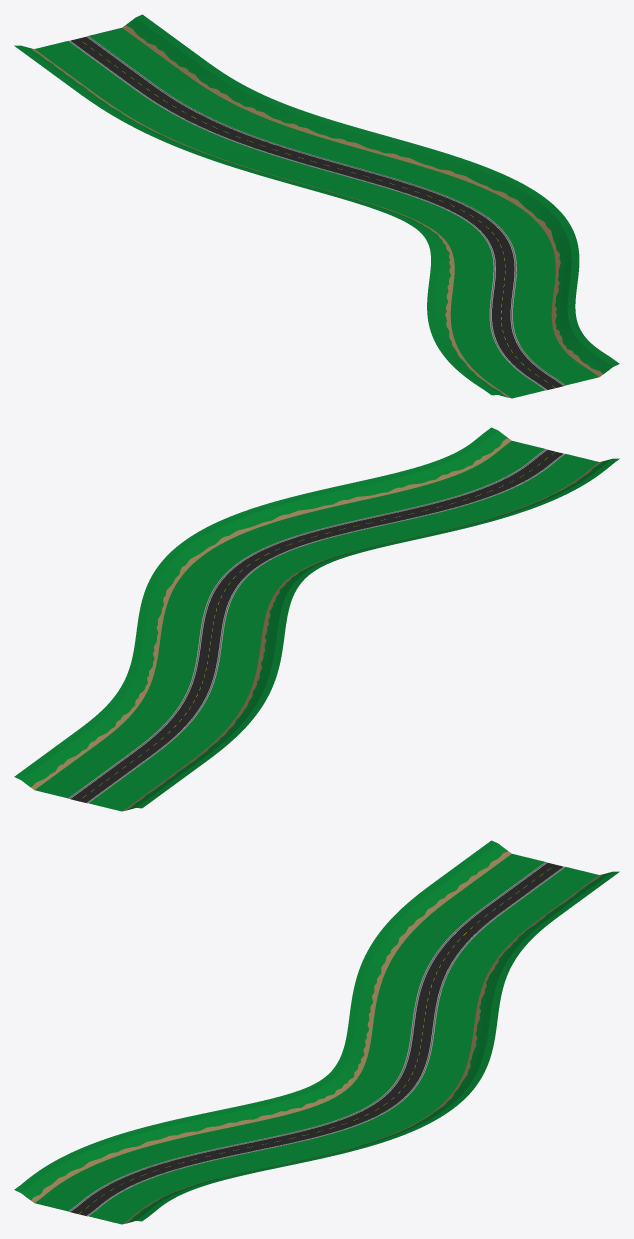
File: HighWay-10.fbx
3 views of the same model, one above another, from view 1: azimuth 30°, elevation 25°; view 2: azimuth 150°, elevation 25°; view 3: azimuth 330°, elevation 25° (orthographic).
Parts seen in each view (by area): view 1: HW-01; view 2: HW-01; view 3: HW-01.
Boxes of the visible parts, x1,y1,x2,y2 form: HW-01: (14,14,619,398); HW-01: (14,427,619,811); HW-01: (14,840,619,1224).
Size of what is drawn, in the model's own units: 179 by 7.53 by 605.
